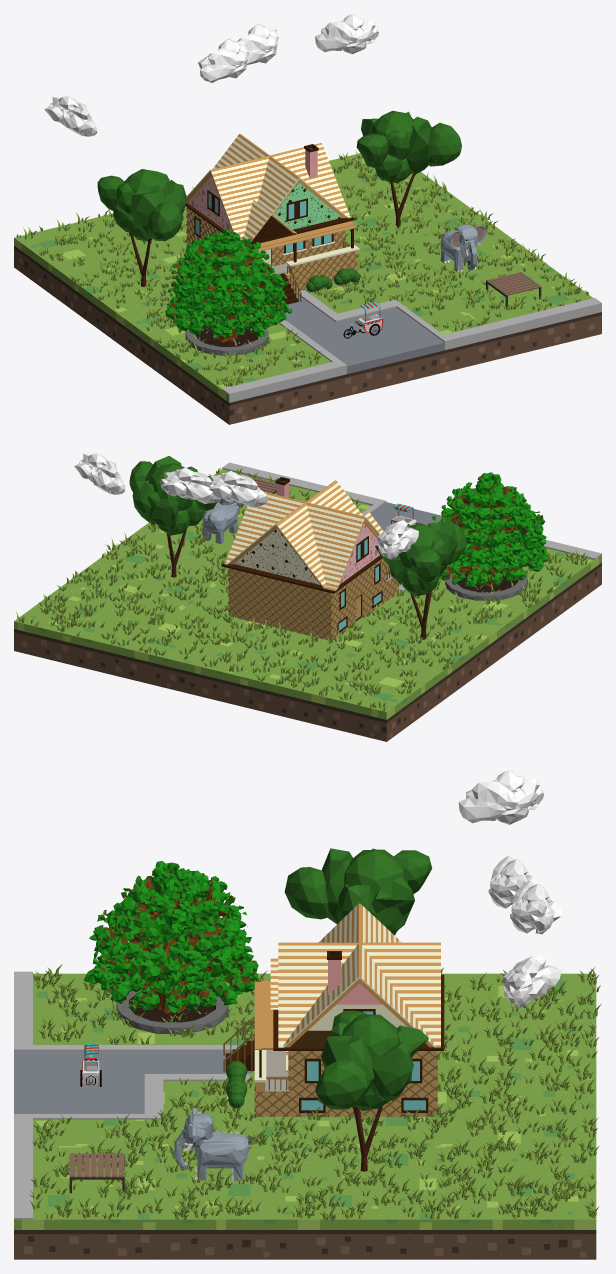
3 views of the same model, one above another, from view 1: azimuth 30°, elevation 25°; view 2: azimuth 150°, elevation 25°; view 3: azimuth 270°, elevation 25° (orthographic). The views are drawn at different scales.
Visible parts, largest first — view 1: Cube.006, Cube.1102, Circle.012_Grass_0.192, OBJRANDOM_CEIBA, Cube.007, tree, tree.001, ANIMAL_ELEFANTE, Cube.009, VEHICLES_SNOWBAL_BIKE; view 2: Cube.006, Cube.1102, Circle.012_Grass_0.192, OBJRANDOM_CEIBA, Cube.007, tree.001, tree, ANIMAL_ELEFANTE; view 3: Cube.006, Circle.012_Grass_0.192, Cube.1102, OBJRANDOM_CEIBA, tree, Cube.007, tree.001, ANIMAL_ELEFANTE, Cube.009, VEHICLES_SNOWBAL_BIKE.
Boxes of the visible parts, x1=… form: Cube.006: x1=14, y1=153, x2=601, y2=424; Cube.1102: x1=185, y1=134, x2=359, y2=304; Circle.012_Grass_0.192: x1=16, y1=150, x2=588, y2=386; OBJRANDOM_CEIBA: x1=165, y1=228, x2=291, y2=355; Cube.007: x1=44, y1=14, x2=378, y2=136; tree: x1=356, y1=110, x2=461, y2=228; tree.001: x1=97, y1=169, x2=186, y2=286; ANIMAL_ELEFANTE: x1=440, y1=224, x2=486, y2=273; Cube.009: x1=486, y1=272, x2=541, y2=306; VEHICLES_SNOWBAL_BIKE: x1=343, y1=301, x2=383, y2=338; Cube.006: x1=14, y1=462, x2=601, y2=741; Cube.1102: x1=221, y1=477, x2=398, y2=641; Circle.012_Grass_0.192: x1=16, y1=468, x2=588, y2=711; OBJRANDOM_CEIBA: x1=432, y1=472, x2=547, y2=600; Cube.007: x1=74, y1=453, x2=418, y2=559; tree.001: x1=375, y1=521, x2=467, y2=639; tree: x1=129, y1=456, x2=216, y2=577; ANIMAL_ELEFANTE: x1=202, y1=498, x2=243, y2=543; Cube.006: x1=14, y1=971, x2=596, y2=1259; Circle.012_Grass_0.192: x1=29, y1=964, x2=601, y2=1220; Cube.1102: x1=223, y1=903, x2=444, y2=1116; OBJRANDOM_CEIBA: x1=83, y1=861, x2=258, y2=1034; tree: x1=315, y1=1010, x2=428, y2=1171; Cube.007: x1=458, y1=770, x2=561, y2=1007; tree.001: x1=284, y1=848, x2=432, y2=935; ANIMAL_ELEFANTE: x1=174, y1=1108, x2=252, y2=1180; Cube.009: x1=69, y1=1153, x2=124, y2=1193; VEHICLES_SNOWBAL_BIKE: x1=80, y1=1043, x2=102, y2=1086.
Bounding box in the file's own units: 4071 × 2277 × 4040.
33 materials, 4 textured.
